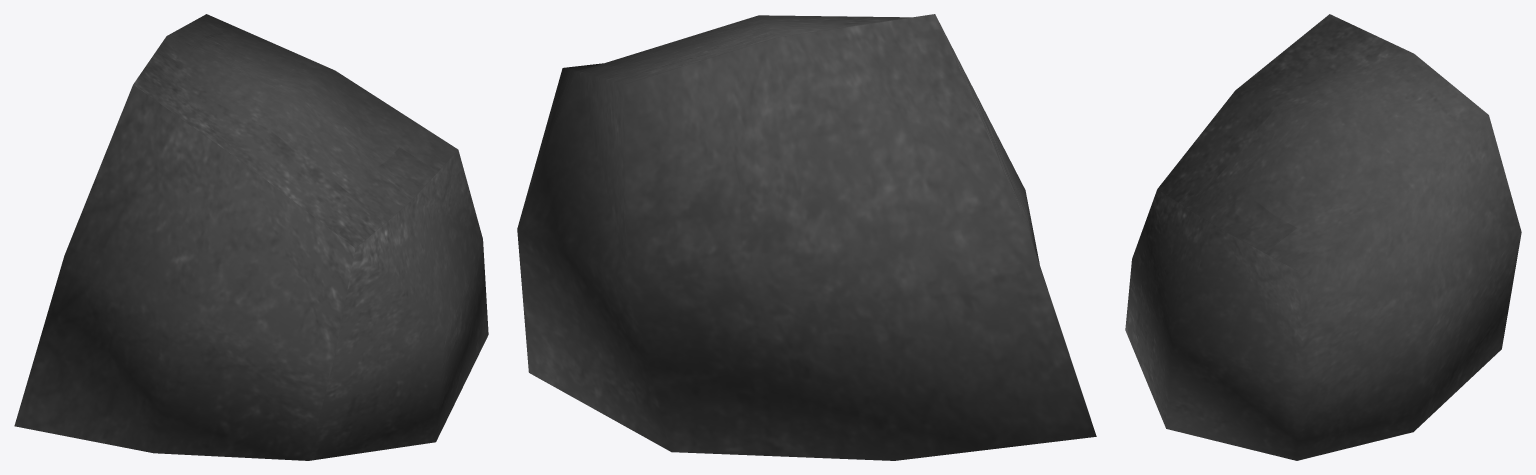
File: Pedra2.fbx
3 views of the same model, side by side, from view 1: azimuth 30°, elevation 25°; view 2: azimuth 150°, elevation 25°; view 3: azimuth 270°, elevation 25° (orthographic). The views are drawn at different scales.
Visible parts, largest first — view 1: Pedra; view 2: Pedra; view 3: Pedra.
Part boxes in pixels (x1,y1,x2,y2): Pedra: (14, 14, 488, 460); Pedra: (517, 14, 1096, 460); Pedra: (1125, 14, 1521, 460).
Bounding box in the file's own units: 327 × 234 × 264.
